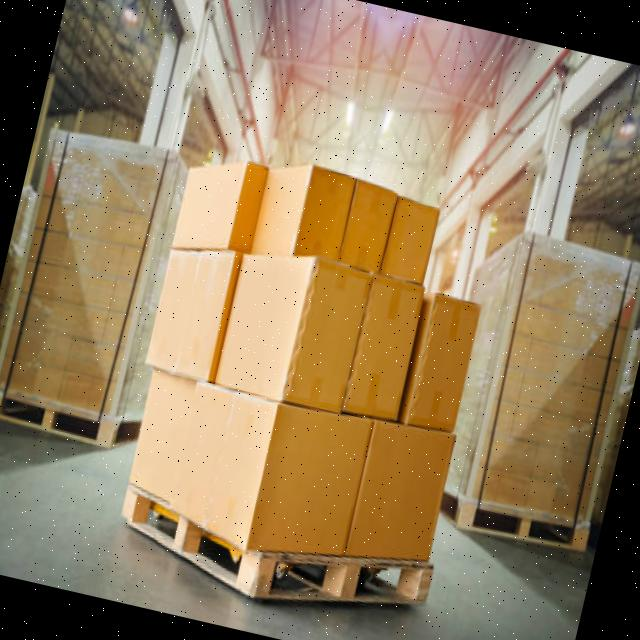Wooden-Pallets: (115, 478, 431, 612), (450, 496, 591, 559), (0, 384, 118, 456)
